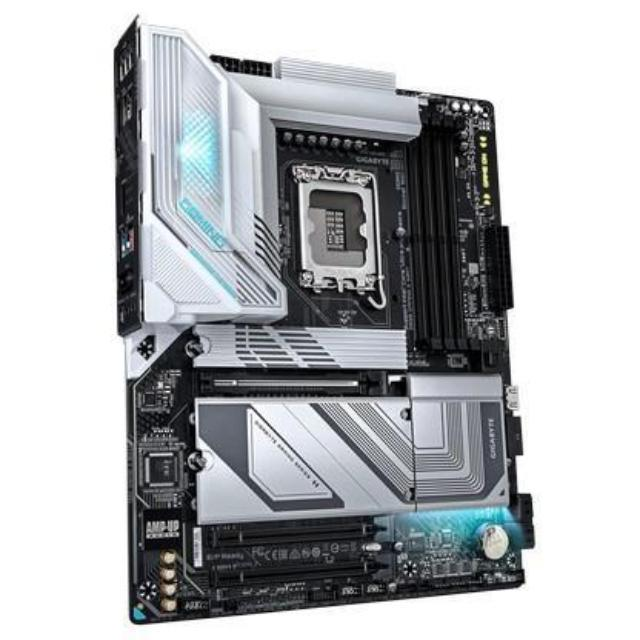Mainboard: (89, 0, 544, 626)
